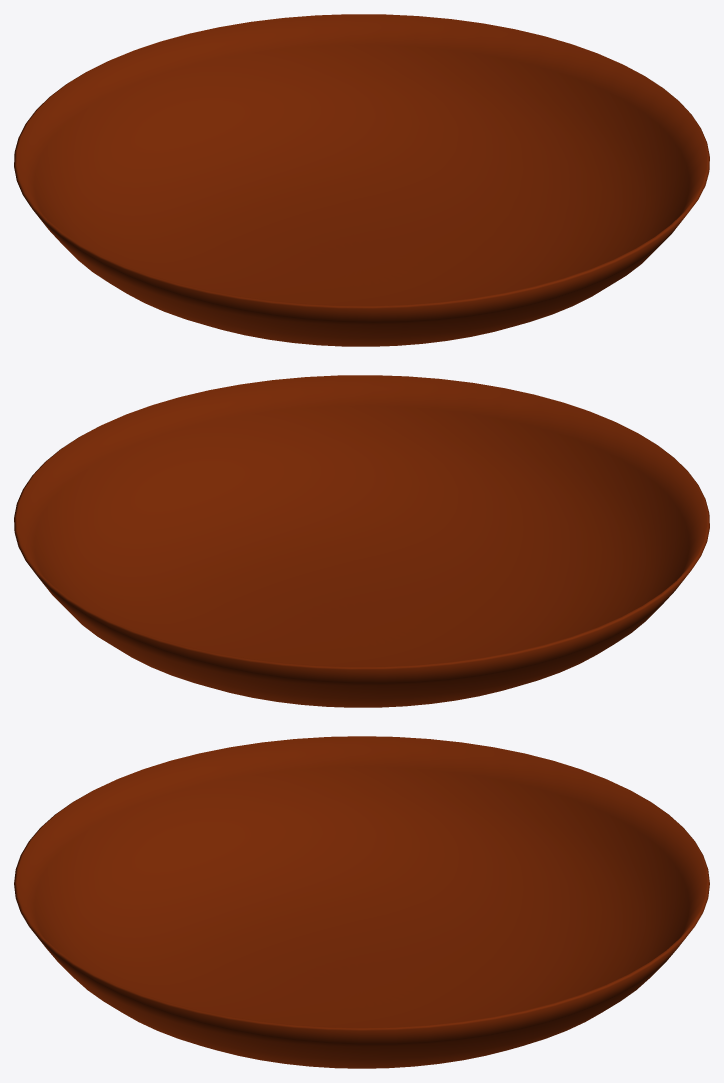
File: PlateBacked.fbx
3 renders of one model, top to bottom at view 1: azimuth 30°, elevation 25°; view 2: azimuth 150°, elevation 25°; view 3: azimuth 270°, elevation 25°, orthographic.
Visible parts, largest first — view 1: Sphere; view 2: Sphere; view 3: Sphere.
Boxes of the visible parts, box(x1,y1,x2,y2) form: Sphere: box(14, 14, 709, 346); Sphere: box(14, 375, 709, 707); Sphere: box(14, 736, 709, 1068).
Bounding box in the file's own units: 184 × 31.24 × 184.
